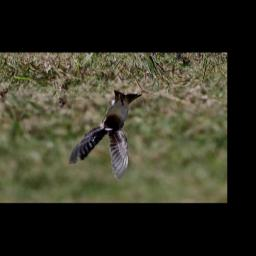Swallow: (69, 90, 142, 180)
